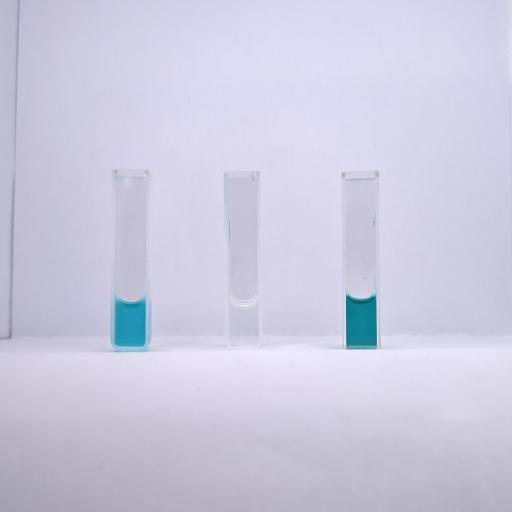cuvette: (109, 166, 152, 355), (339, 168, 383, 352), (221, 168, 265, 350)
liquid: (347, 294, 376, 345), (116, 298, 144, 346), (229, 300, 258, 346)
